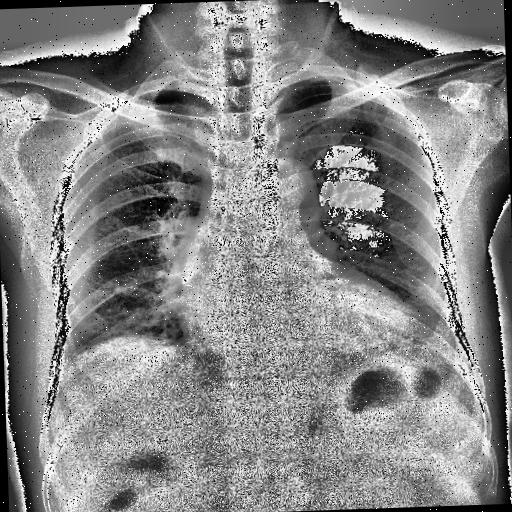0- Aortic enlargement: (234, 152, 324, 248), (242, 158, 322, 241), (242, 154, 320, 228)
11- Pleural thickening: (282, 72, 366, 94)
3- Cardiomegaly: (172, 270, 438, 362), (174, 282, 424, 374), (176, 276, 434, 358)
